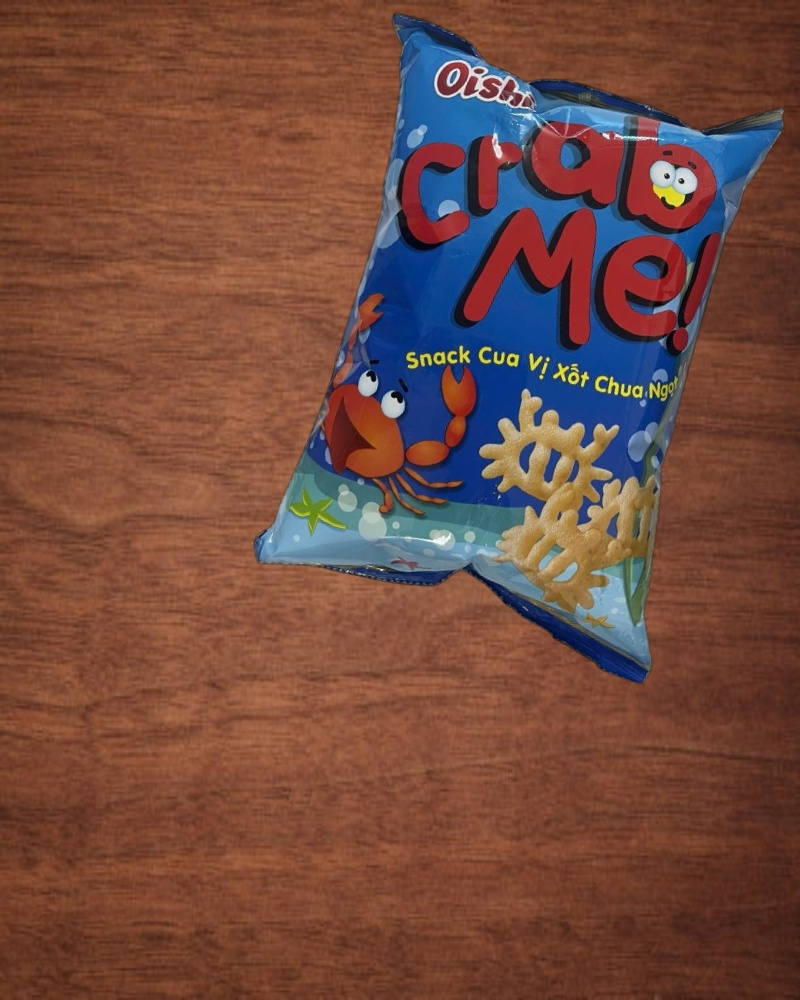Snack chay: (243, 6, 800, 688)
